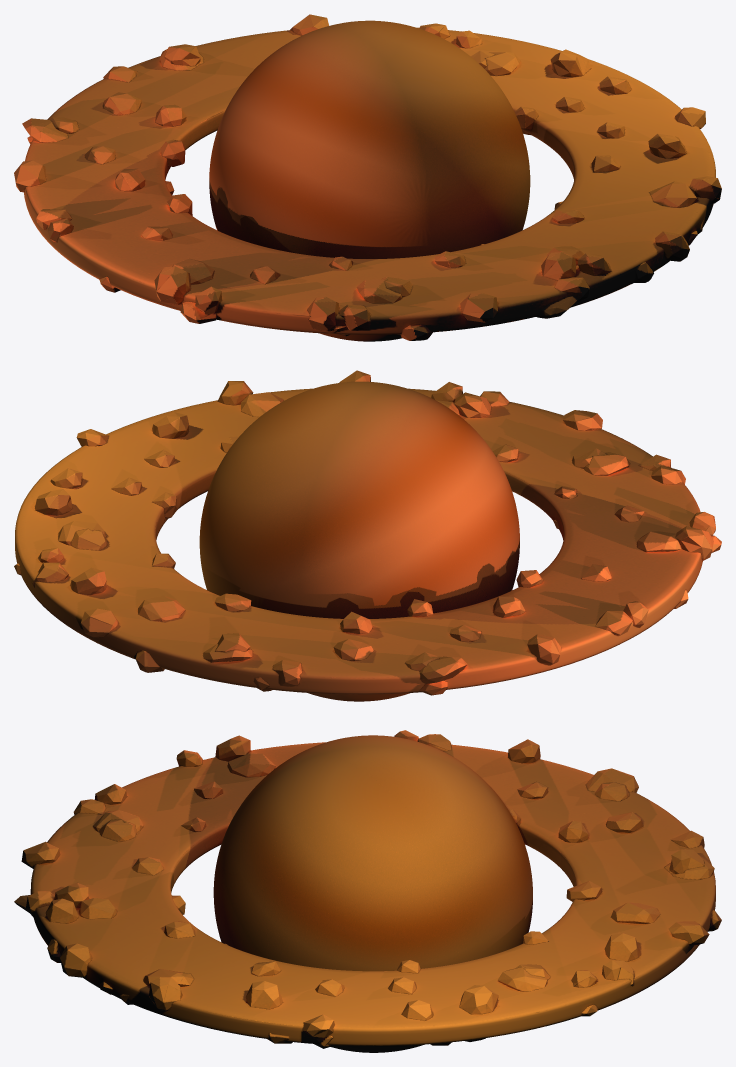
Rendered from nexus-planet-model.glb.
The picture shows the model from 3 angles, top to bottom: view 1: azimuth 30°, elevation 25°; view 2: azimuth 150°, elevation 25°; view 3: azimuth 270°, elevation 25°; orthographic projection.
Visible parts, largest first — view 1: Icosphere.001, Sphere; view 2: Icosphere.001, Sphere; view 3: Icosphere.001, Sphere.
Part boxes in pixels (<box>): Icosphere.001: <box>14,14,721,340</box>; Sphere: <box>209,20,530,341</box>; Icosphere.001: <box>14,370,721,695</box>; Sphere: <box>199,381,519,701</box>; Icosphere.001: <box>14,730,721,1048</box>; Sphere: <box>213,735,532,1052</box>.
Bounding box in the file's own units: 27.24 × 12.36 × 27.57.
Materials: 2 (2 with a texture image).
